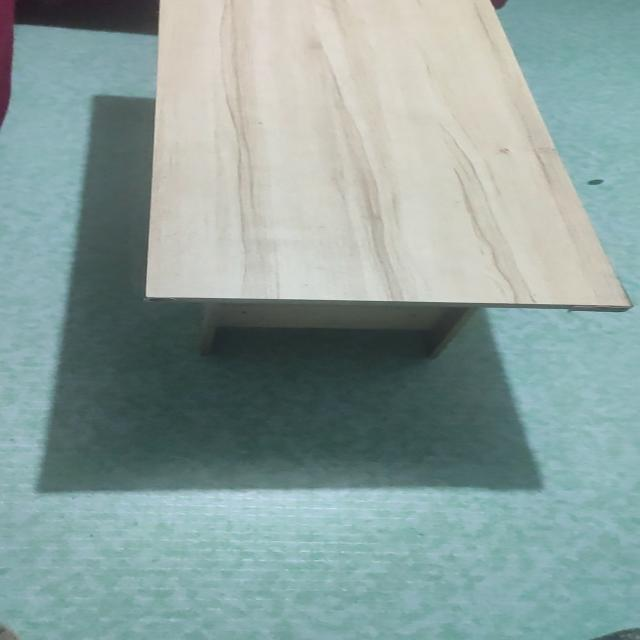table: (139, 0, 629, 372)
